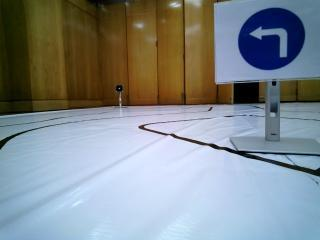left: (217, 7, 319, 79)
